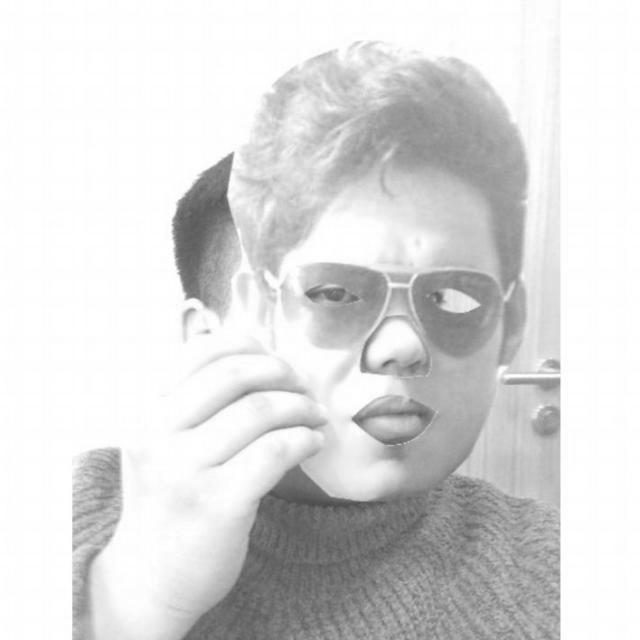fake: (223, 38, 537, 502)
